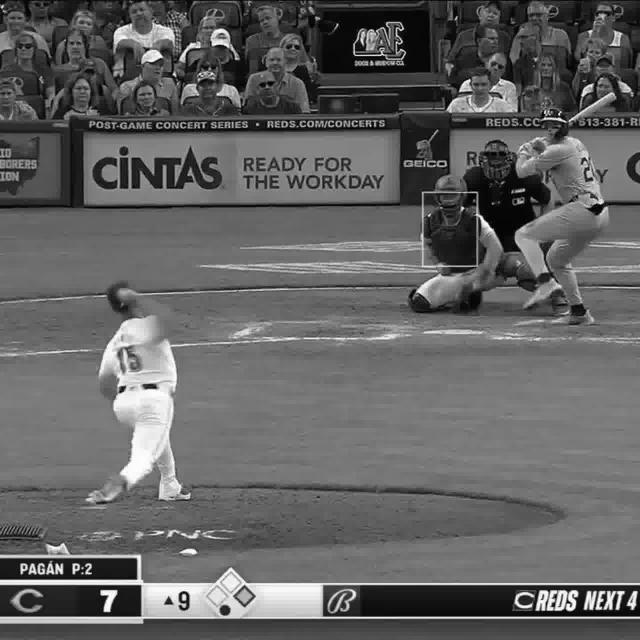base: (422, 328, 482, 337)
baseball: (120, 292, 130, 304)
baseball_glove: (452, 282, 488, 320)
bat: (572, 90, 618, 134)
shoe: (526, 281, 560, 317), (90, 474, 132, 502), (552, 311, 597, 331), (159, 490, 191, 505)
